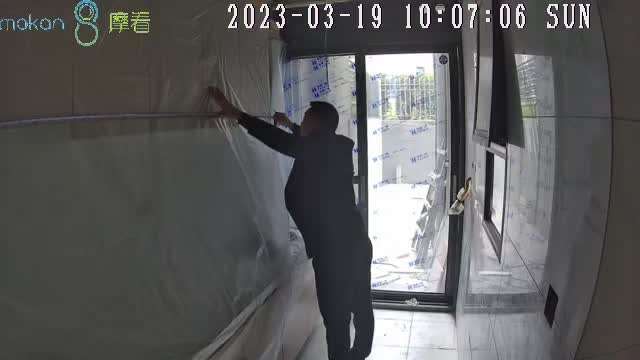people: (207, 85, 376, 360)
window: (283, 54, 449, 294)
